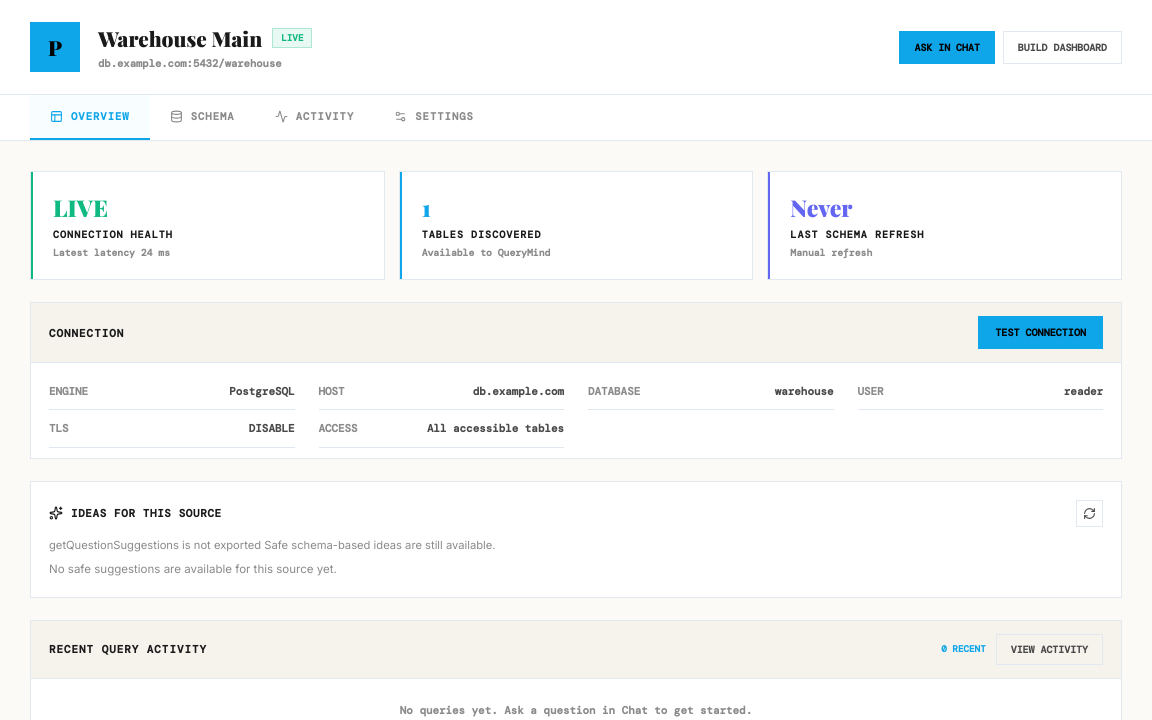
it: connection detail states › shows four accessible sections and connection-first header actions
Expected: the number of tabs is 4, [30,95,150,140]; [150,95,255,140]; [255,95,374,140]; [374,95,494,140]
What coordinates should you click on to do the following:
click the button "ASK IN CHAT"
I would click on:
 (947, 47)
Its box is [899,30,995,64].
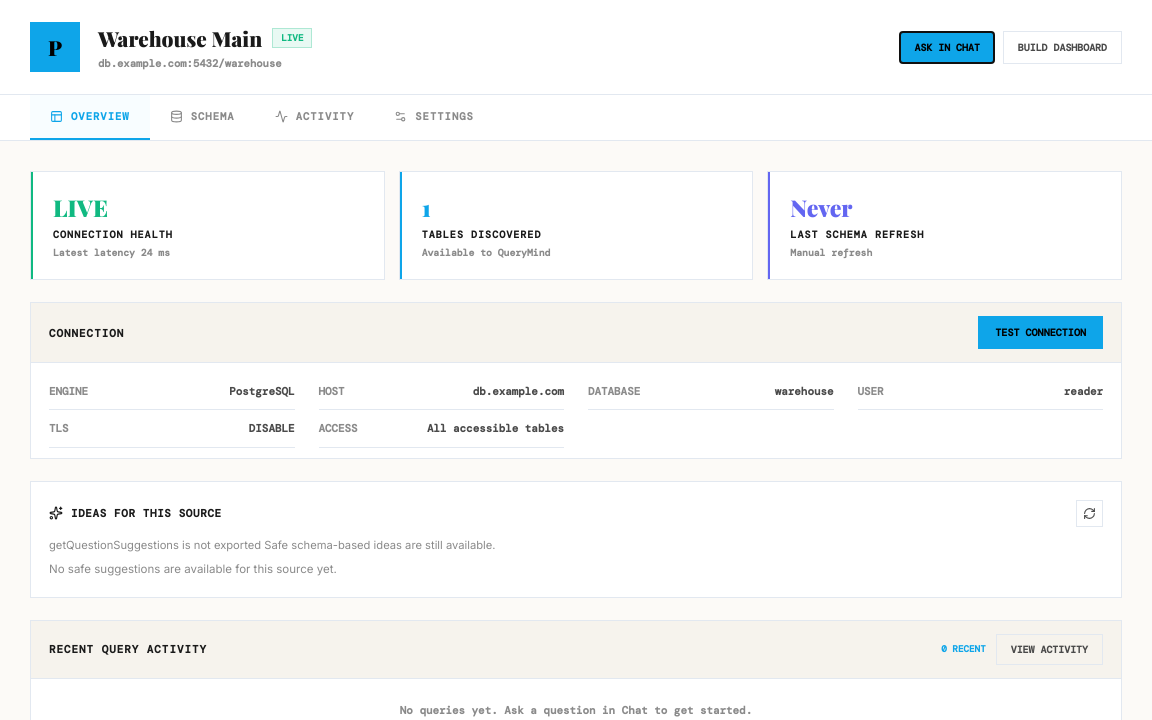
What coordinates should you click on to do the following:
click the button "BUILD DASHBOARD"
I would click on:
 (1062, 47)
Its box is [1003,30,1122,64].
(page scrolled)
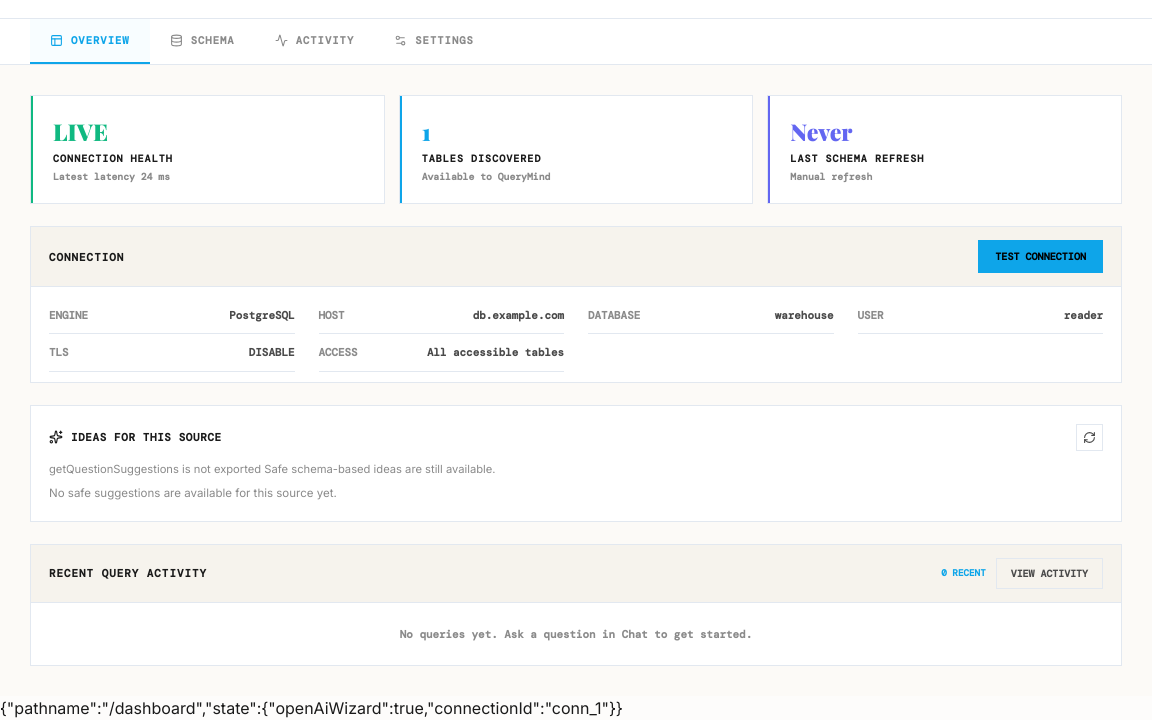
Expected: the text with test id "location" shows "\"connectionId\":\"conn_1\"", [0,698,623,718]
Expected: the text with test id "location" shows "\"pathname\":\"/dashboard\"", [0,698,623,718]
Expected: the text with test id "location" shows "\"openAiWizard\":true", [0,698,623,718]
